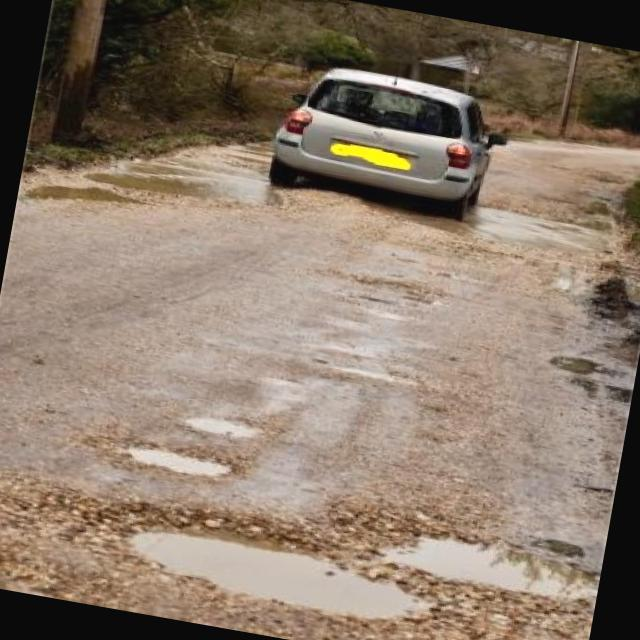pothole: (81, 484, 451, 640), (348, 503, 603, 614), (85, 420, 240, 490)
